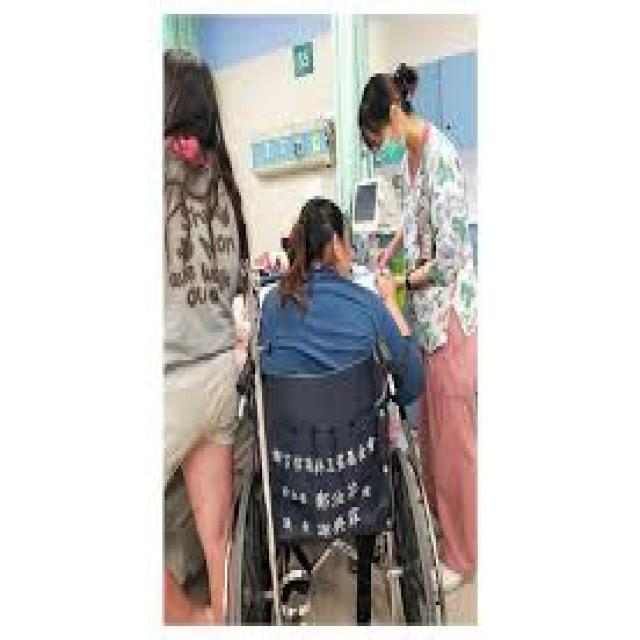wheelchairs: (213, 280, 457, 626)
